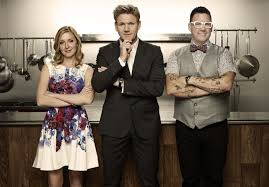Bad: (91, 4, 236, 187), (32, 4, 165, 185)
